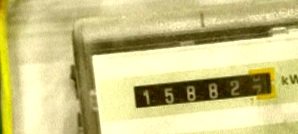1: (142, 88, 153, 106)
2: (229, 78, 242, 96)
5: (163, 86, 176, 104)
7: (252, 82, 264, 96)
8: (186, 83, 198, 101), (209, 82, 220, 98)
screen: (127, 64, 284, 113)
